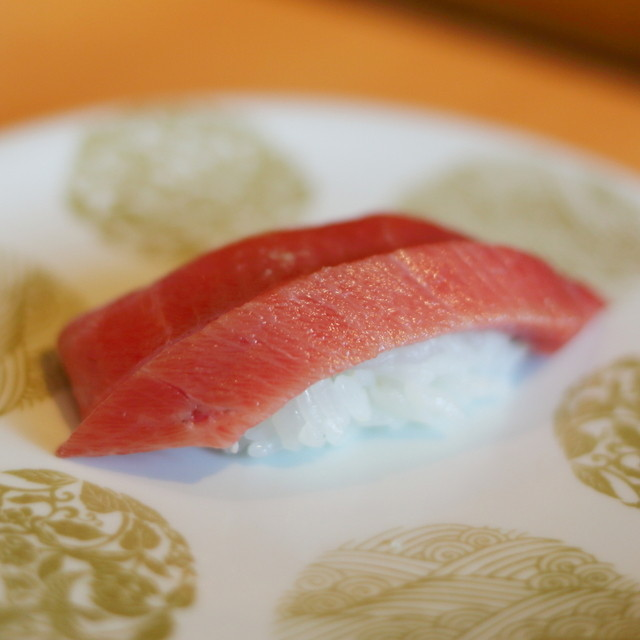medium_fatty_tuna: (56, 214, 600, 462)
